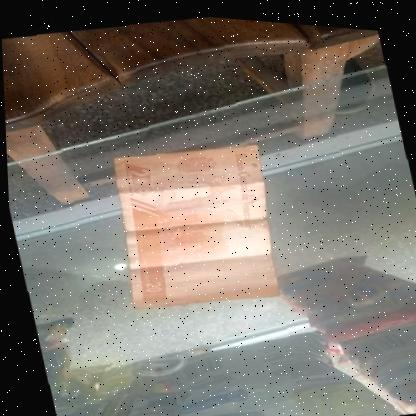twenty-back-vef: (97, 128, 288, 318)
